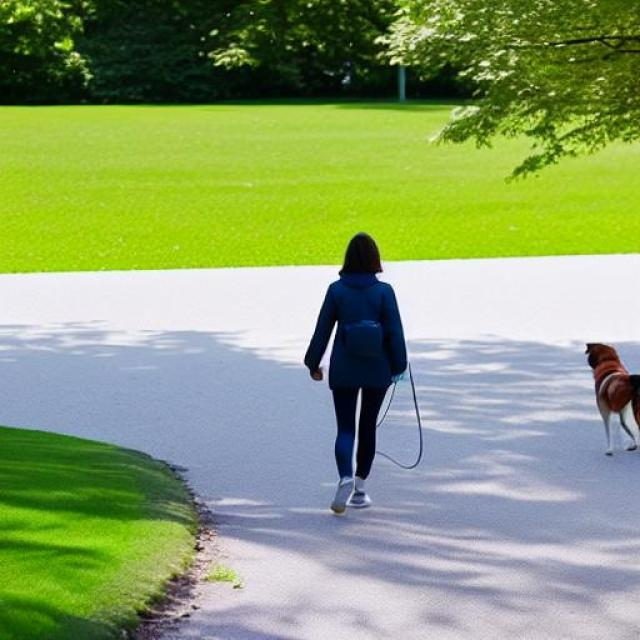Unleashed_Dog: (320, 340, 640, 456)
